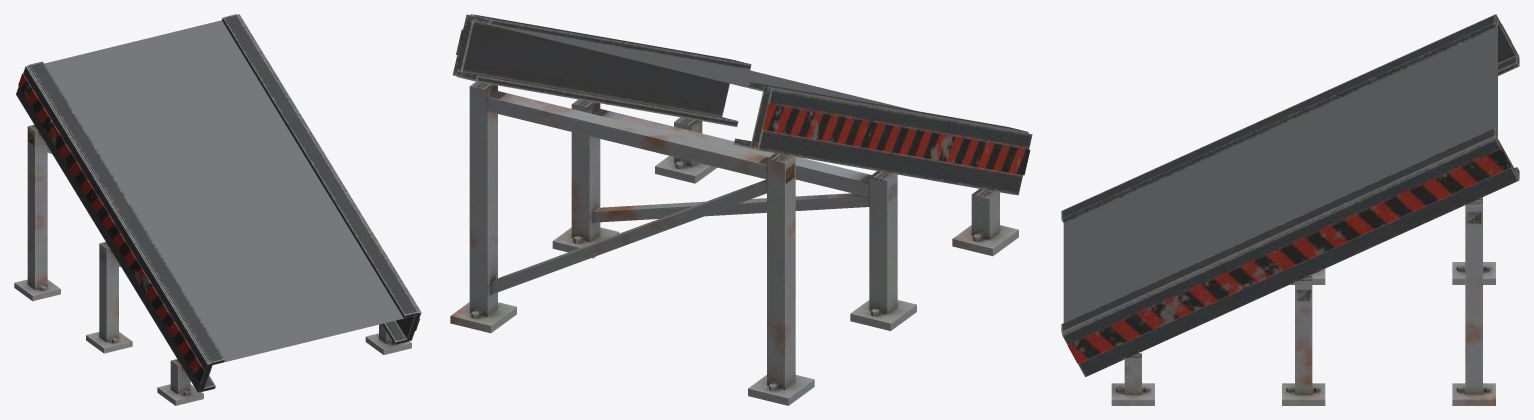
The model's file is esteira_rampa_rapida.glb.
The picture shows the model from 3 angles, left to right: view 1: azimuth 30°, elevation 25°; view 2: azimuth 150°, elevation 25°; view 3: azimuth 270°, elevation 25°; orthographic projection. The views are drawn at different scales.
Visible parts, largest first — view 1: esteira_rampa_rapida_corpo; view 2: esteira_rampa_rapida_corpo; view 3: esteira_rampa_rapida_corpo.
Part boxes in pixels (x1,y1,x2,y2): esteira_rampa_rapida_corpo: (14, 14, 421, 405); esteira_rampa_rapida_corpo: (450, 14, 1032, 405); esteira_rampa_rapida_corpo: (1061, 14, 1519, 405).
Bounding box in the file's own units: 0.75 × 0.6661 × 1.06.
Materials: 2 (1 with a texture image).
